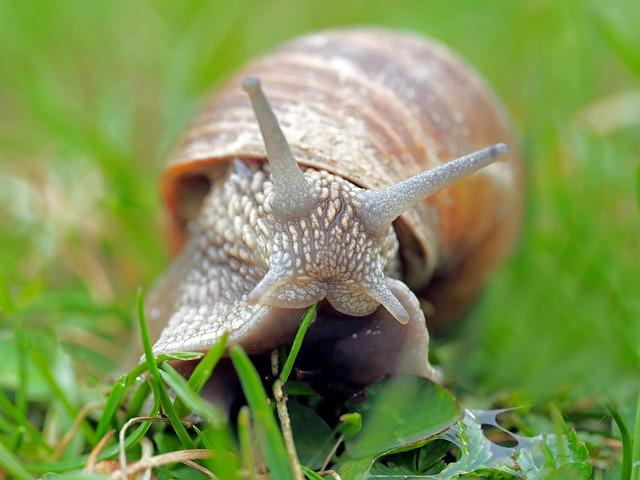Non_Gorille: (98, 15, 543, 451)
